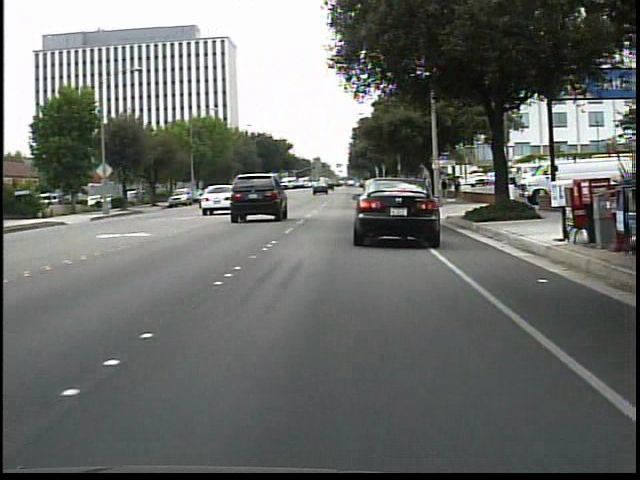person: (450, 176, 462, 203), (439, 177, 450, 201)
